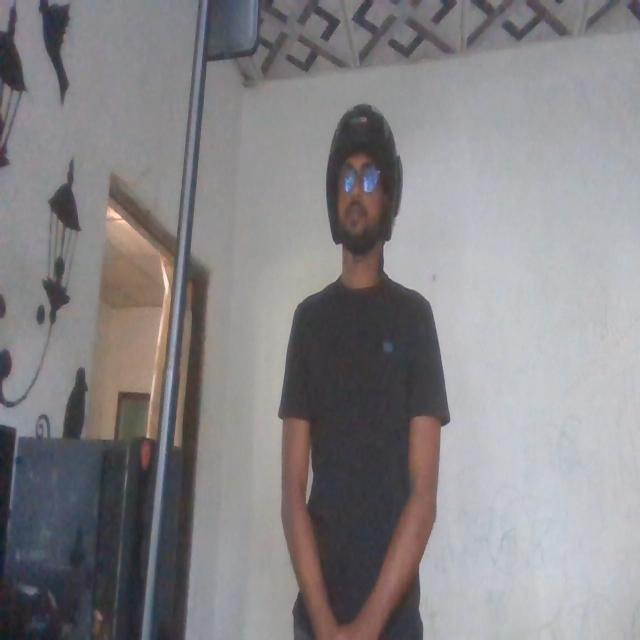Helmet_Wearer: (319, 108, 405, 282)
Person: (284, 95, 446, 640)
